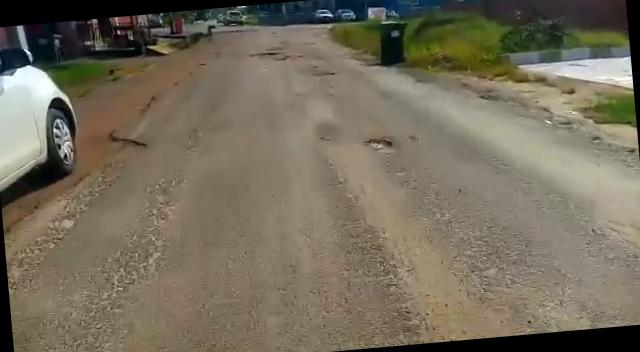pothole: (362, 135, 397, 154)
